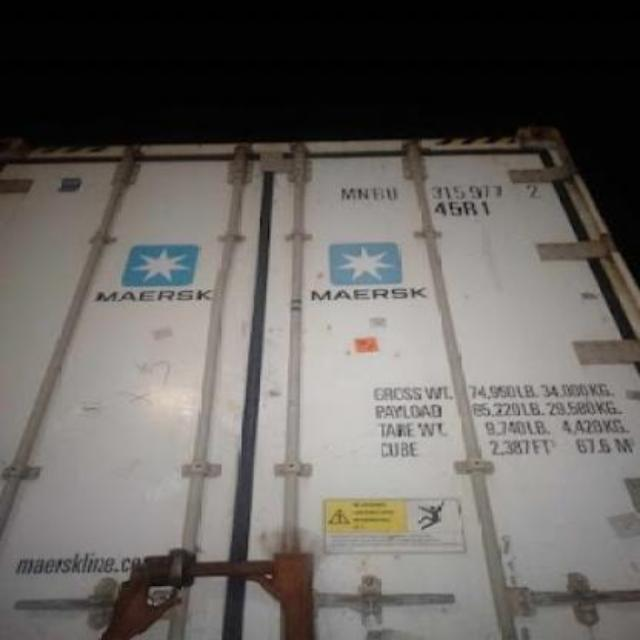1: (442, 180, 452, 198)
2: (522, 180, 542, 198)
3: (430, 182, 442, 200)
5: (452, 182, 466, 200)
7: (490, 174, 506, 202), (478, 180, 492, 198)
9: (468, 177, 480, 200)
B: (370, 183, 386, 201)
M: (338, 183, 356, 201)
N: (356, 185, 369, 201)
U: (384, 185, 402, 203)
